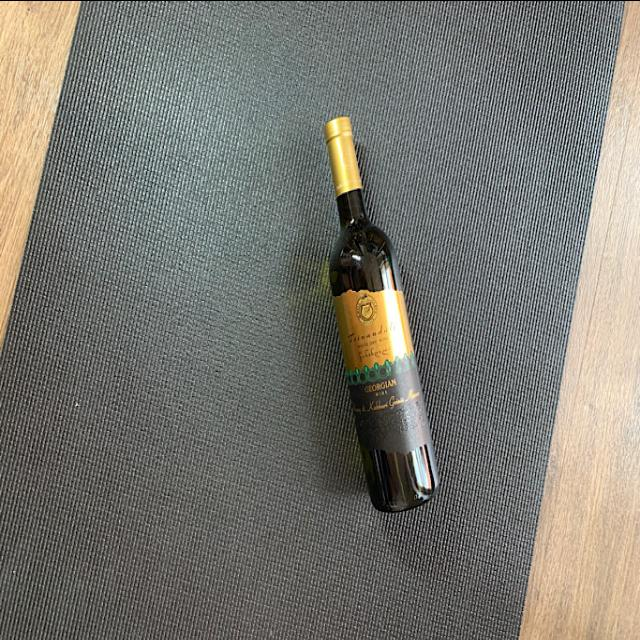litter: (314, 115, 444, 520)
